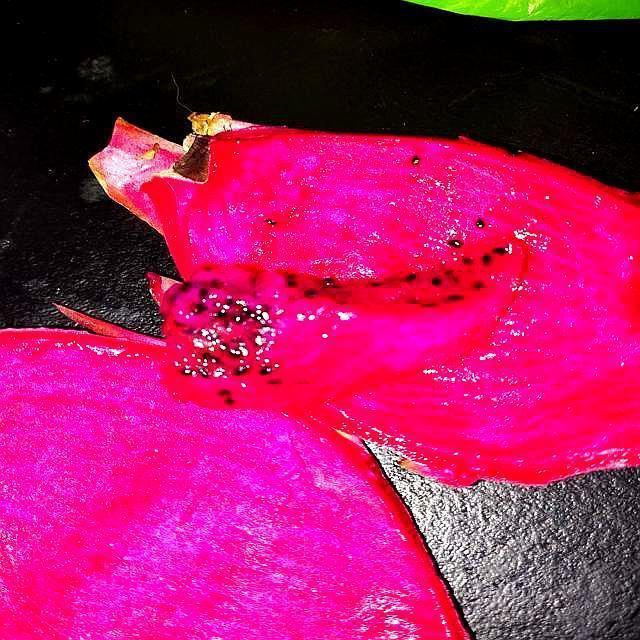Biodegradable: (1, 115, 640, 640)
